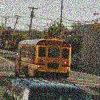buses: (16, 38, 74, 80)
